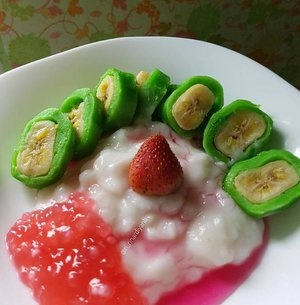es_pisang_ijo: (12, 65, 299, 305)
